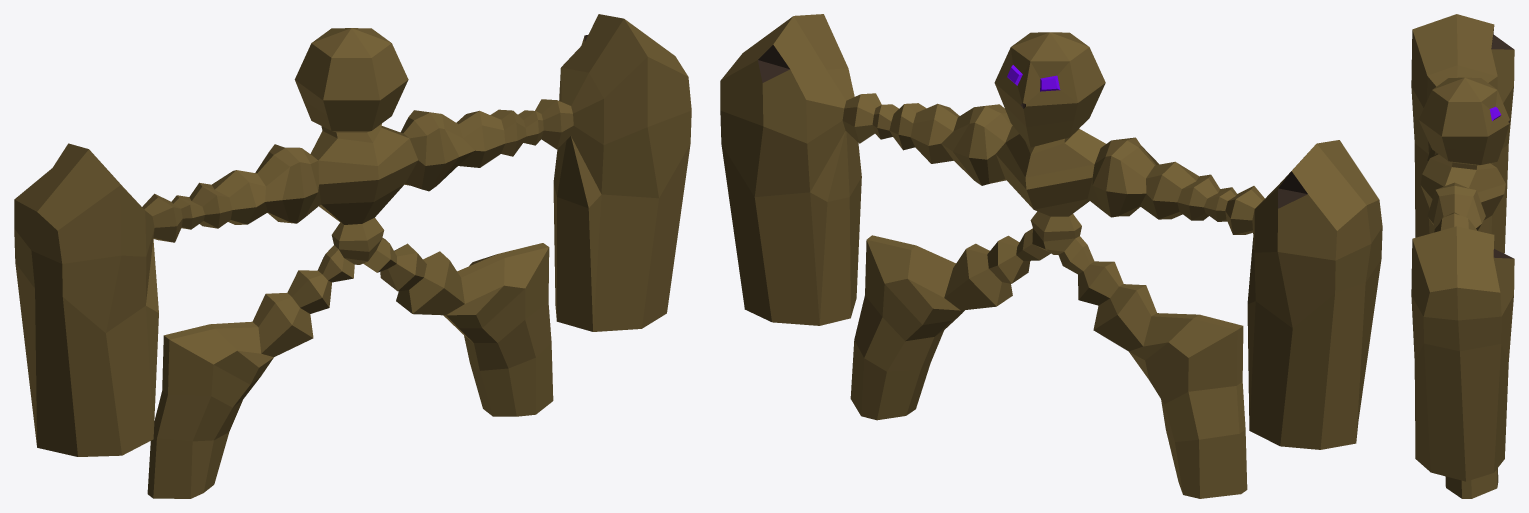
The model's file is earth villian.fbx.
3 views of the same model, side by side, from view 1: azimuth 30°, elevation 25°; view 2: azimuth 150°, elevation 25°; view 3: azimuth 270°, elevation 25° (orthographic). The views are drawn at different scales.
Visible parts, largest first — view 1: Cube; view 2: Cube; view 3: Cube.
Part boxes in pixels (x1,y1,x2,y2): Cube: (14, 14, 691, 498); Cube: (720, 14, 1382, 498); Cube: (1411, 14, 1514, 498).
Bounding box in the file's own units: 1315 × 816 × 223.
